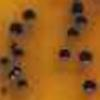black: (72, 12, 89, 29), (81, 78, 96, 96), (78, 47, 93, 64), (23, 6, 37, 20), (58, 46, 70, 61), (8, 22, 24, 33), (70, 0, 82, 14), (10, 42, 22, 55), (13, 78, 28, 88), (65, 26, 78, 37), (0, 54, 9, 64), (0, 84, 7, 96), (13, 67, 21, 75), (8, 73, 15, 81)
